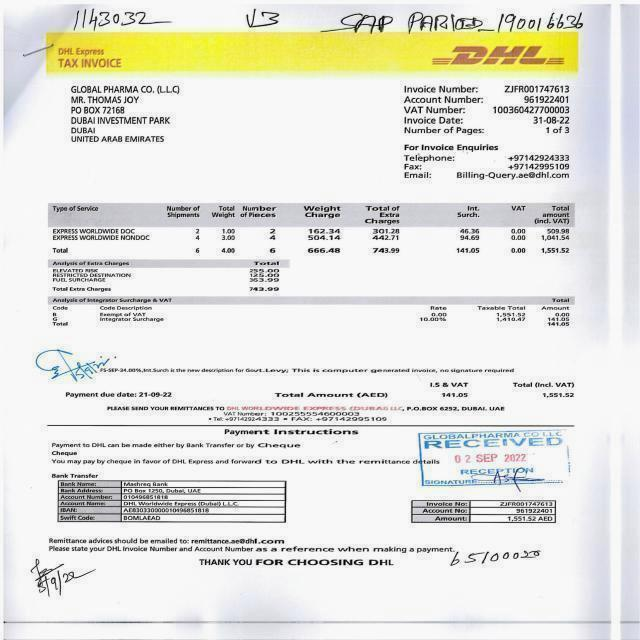paragraph: (397, 83, 574, 183), (48, 427, 445, 470), (38, 472, 300, 524), (418, 428, 576, 489), (105, 402, 505, 424), (47, 534, 455, 554), (47, 260, 290, 292), (71, 81, 184, 143), (317, 7, 584, 33), (408, 498, 560, 527), (429, 43, 570, 68), (98, 367, 518, 375), (35, 347, 109, 386), (72, 4, 174, 30), (194, 557, 396, 570), (29, 557, 96, 595), (448, 551, 550, 567), (54, 47, 127, 68), (271, 390, 395, 402), (243, 0, 283, 32), (511, 382, 582, 398), (429, 381, 480, 400), (63, 391, 176, 398)
table: (47, 201, 574, 254), (47, 296, 574, 333)
